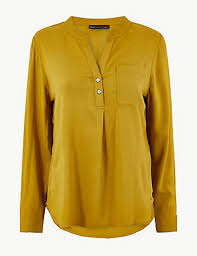C_blouse: (2, 7, 193, 239)
